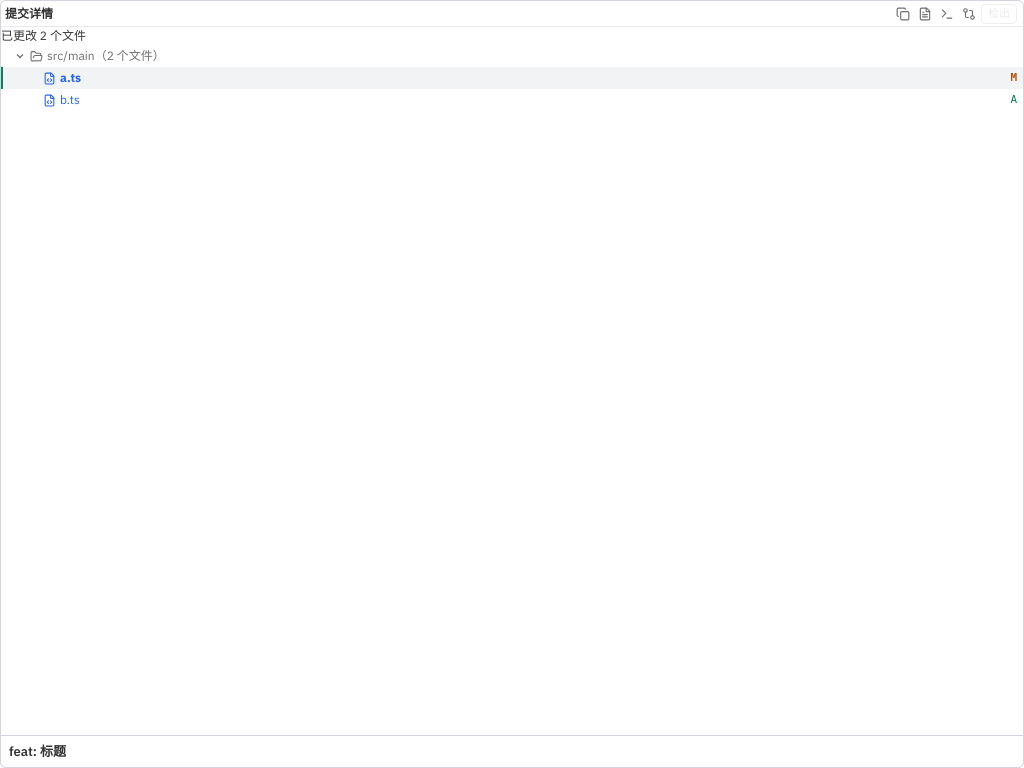
Test: GitCommitDetail 发送到会话 › 右键文件行 → 发送该文件的绝对路径
Right-click the list item with aria-label "src/main/b.ts" at (50, 100), box [1,89,1023,111]
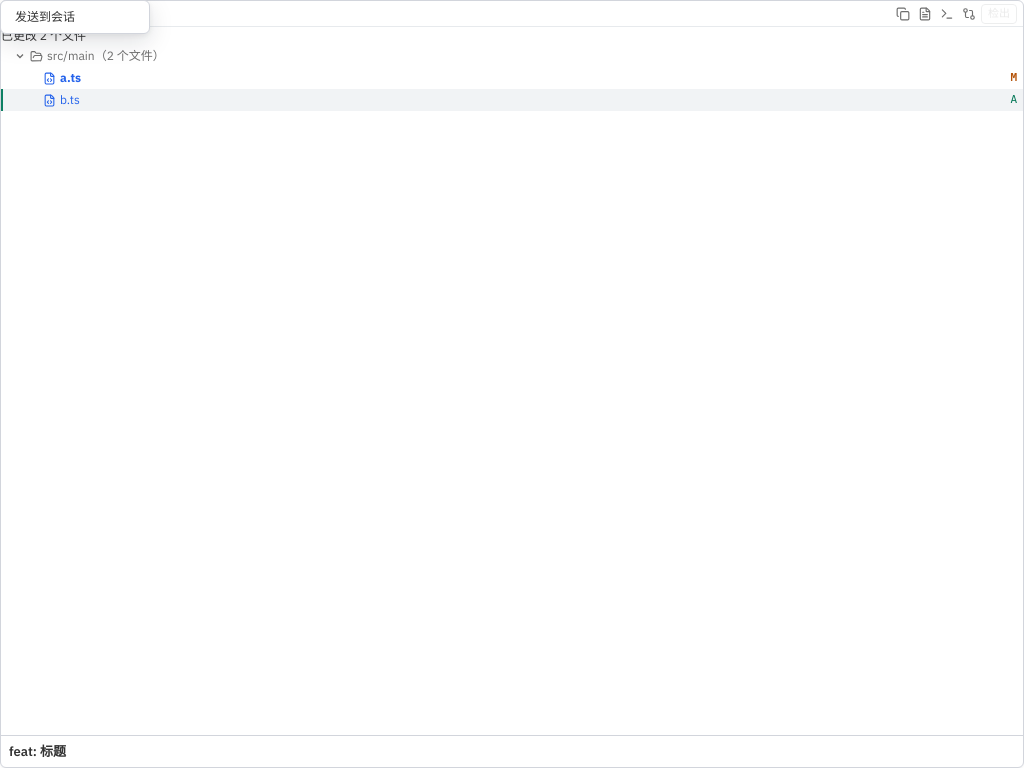
Click the menu item "发送到会话" at (75, 17), box [5,5,145,29]
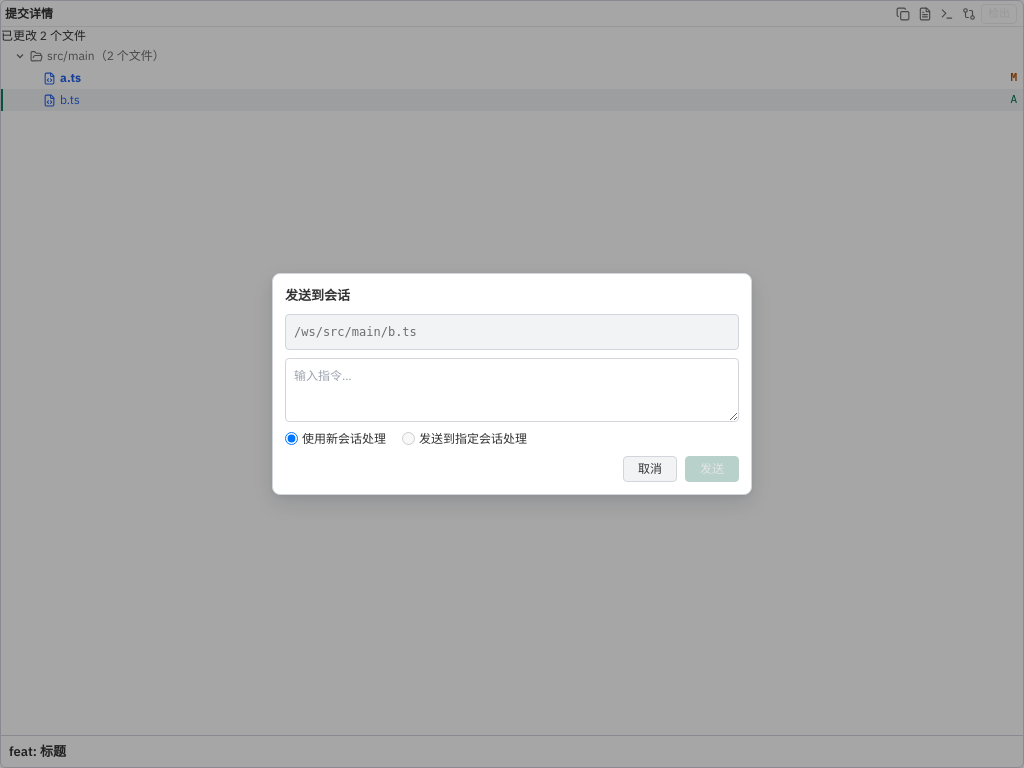
Expected: the text with test id "pm-send-dialog-preview" reads "/ws/src/main/b.ts", [294,325,417,339]
